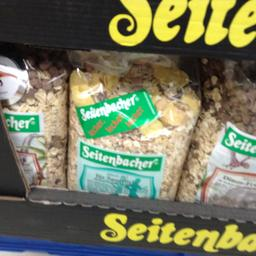cereal: (68, 56, 202, 199), (176, 78, 255, 204), (0, 60, 67, 186)
